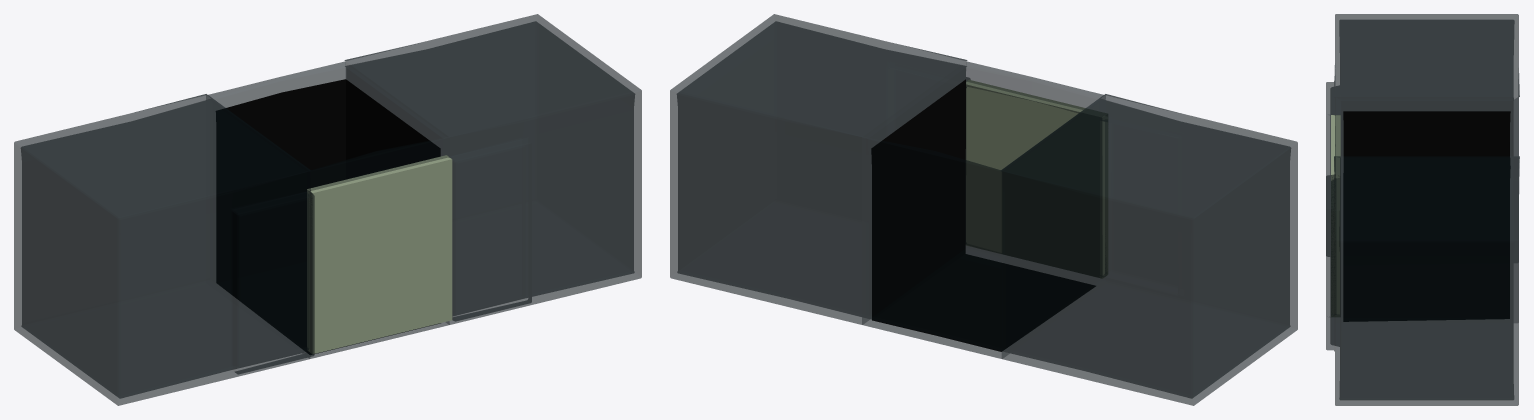
The model's file is Floor.fbx.
3 views of the same model, side by side, from view 1: azimuth 30°, elevation 25°; view 2: azimuth 150°, elevation 25°; view 3: azimuth 270°, elevation 25° (orthographic). The views are drawn at different scales.
Visible parts, largest first — view 1: Floor1Shaft, Cabin, Door_Left, Door_Right; view 2: Floor1Shaft, Cabin, Door_Left, Door_Right; view 3: Floor1Shaft, Cabin, Door_Right, Door_Left.
Boxes of the visible parts, x1=… form: Floor1Shaft: x1=14, y1=14, x2=641, y2=405; Cabin: x1=216, y1=79, x2=440, y2=354; Door_Left: x1=307, y1=172, x2=382, y2=353; Door_Right: x1=377, y1=155, x2=452, y2=337; Floor1Shaft: x1=670, y1=14, x2=1297, y2=405; Cabin: x1=871, y1=79, x2=1095, y2=351; Door_Left: x1=1032, y1=97, x2=1107, y2=278; Door_Right: x1=966, y1=80, x2=1037, y2=260; Floor1Shaft: x1=1326, y1=14, x2=1519, y2=405; Cabin: x1=1343, y1=111, x2=1510, y2=321; Door_Right: x1=1331, y1=145, x2=1340, y2=316; Door_Left: x1=1331, y1=115, x2=1340, y2=144.
Bounding box in the file's own units: 918 × 316 × 332.
